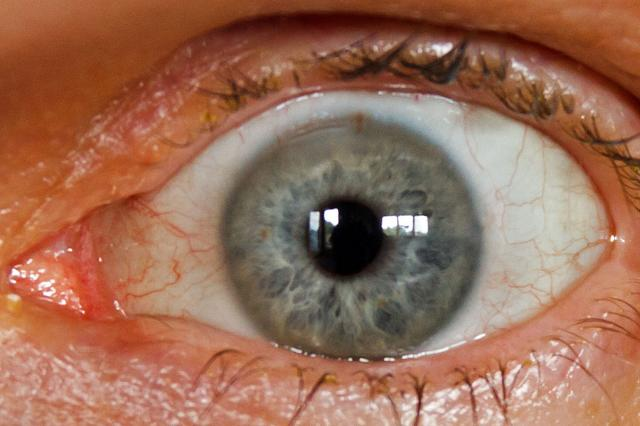eye: (219, 114, 487, 366)
